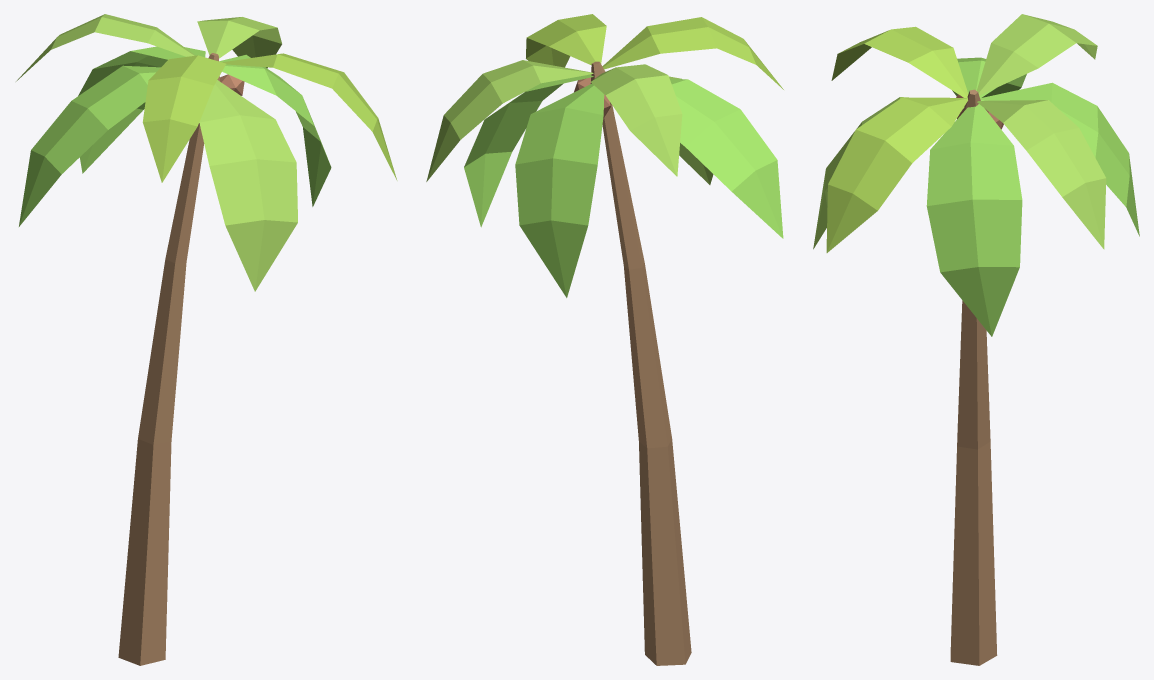
Rendered from Palm_Tree_Coconut_m_02_LOD.fbx.
The picture shows the model from 3 angles, left to right: view 1: azimuth 30°, elevation 25°; view 2: azimuth 150°, elevation 25°; view 3: azimuth 270°, elevation 25°; orthographic projection. The views are drawn at different scales.
Visible parts, largest first — view 1: Palm_Tree_Coconut_m_02_LOD0; view 2: Palm_Tree_Coconut_m_02_LOD0; view 3: Palm_Tree_Coconut_m_02_LOD0.
Boxes of the visible parts, bbox=[...] form: Palm_Tree_Coconut_m_02_LOD0: bbox=[16, 14, 397, 665]; Palm_Tree_Coconut_m_02_LOD0: bbox=[426, 14, 783, 665]; Palm_Tree_Coconut_m_02_LOD0: bbox=[813, 14, 1139, 665].
Size of what is drawn, in the model's own units: 334 by 630 by 296.
